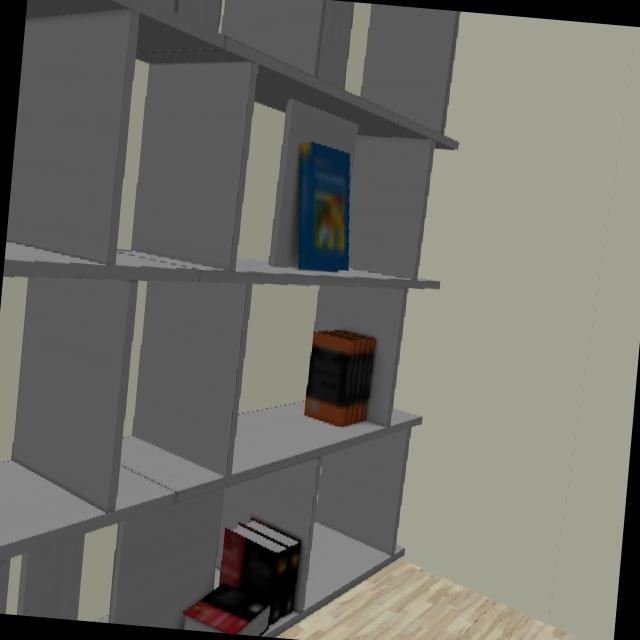book: (188, 516, 303, 636), (304, 329, 378, 427), (298, 141, 349, 273)
